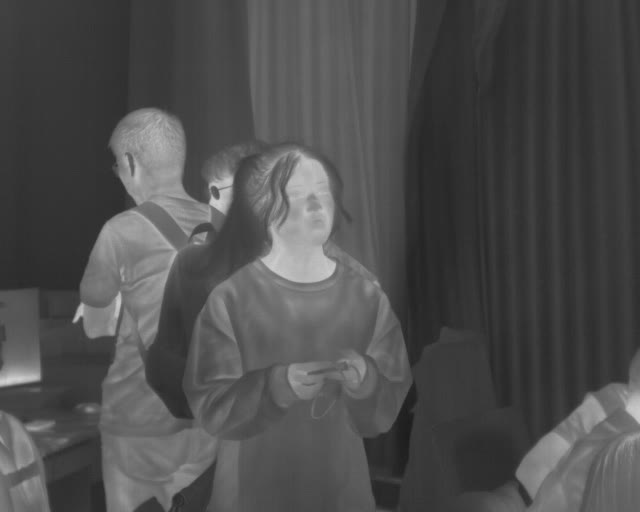face: (256, 130, 359, 252)
